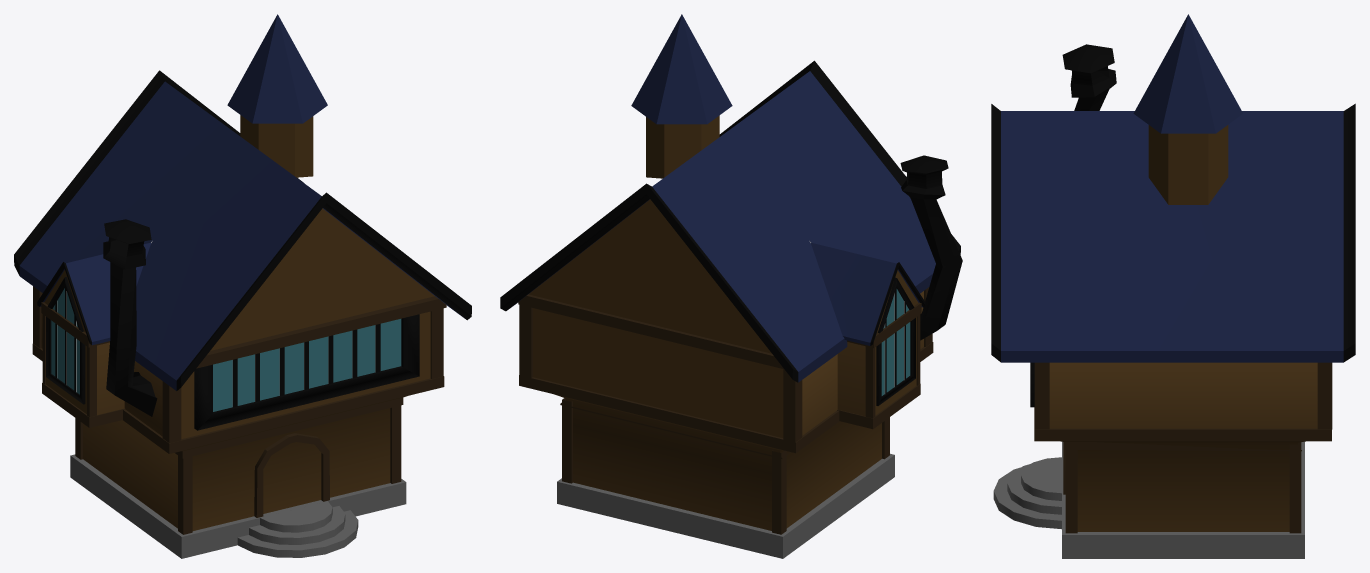
File: House.fbx
3 renders of one model, left to right at view 1: azimuth 30°, elevation 25°; view 2: azimuth 150°, elevation 25°; view 3: azimuth 270°, elevation 25°, orthographic. The views are drawn at different scales.
Visible parts, largest first — view 1: House; view 2: House; view 3: House.
Part boxes in pixels (x1=…): House: x1=14, y1=14, x2=471, y2=558; House: x1=500, y1=14, x2=962, y2=558; House: x1=991, y1=14, x2=1355, y2=558.
Bounding box in the file's own units: 14.84 × 20.36 × 13.25.
